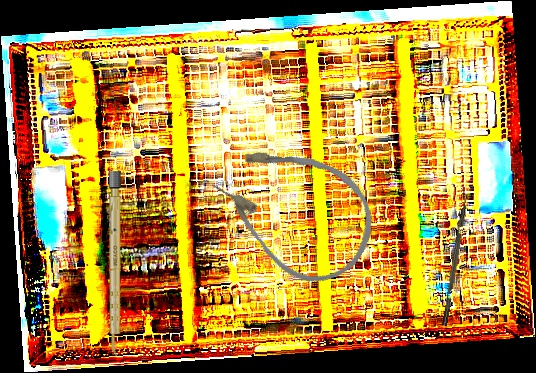Cannula: (194, 115, 395, 302)
Chopper: (435, 188, 471, 326)
Scalpel Handle: (109, 171, 121, 356)
